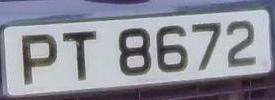2: (222, 15, 260, 71)
6: (149, 18, 191, 80)
7: (187, 16, 225, 77)
8: (113, 20, 156, 84)
P: (13, 28, 63, 93)
T: (58, 26, 104, 86)
